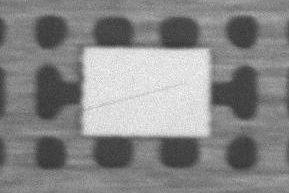DIE_CRACK: (126, 55, 277, 73)
